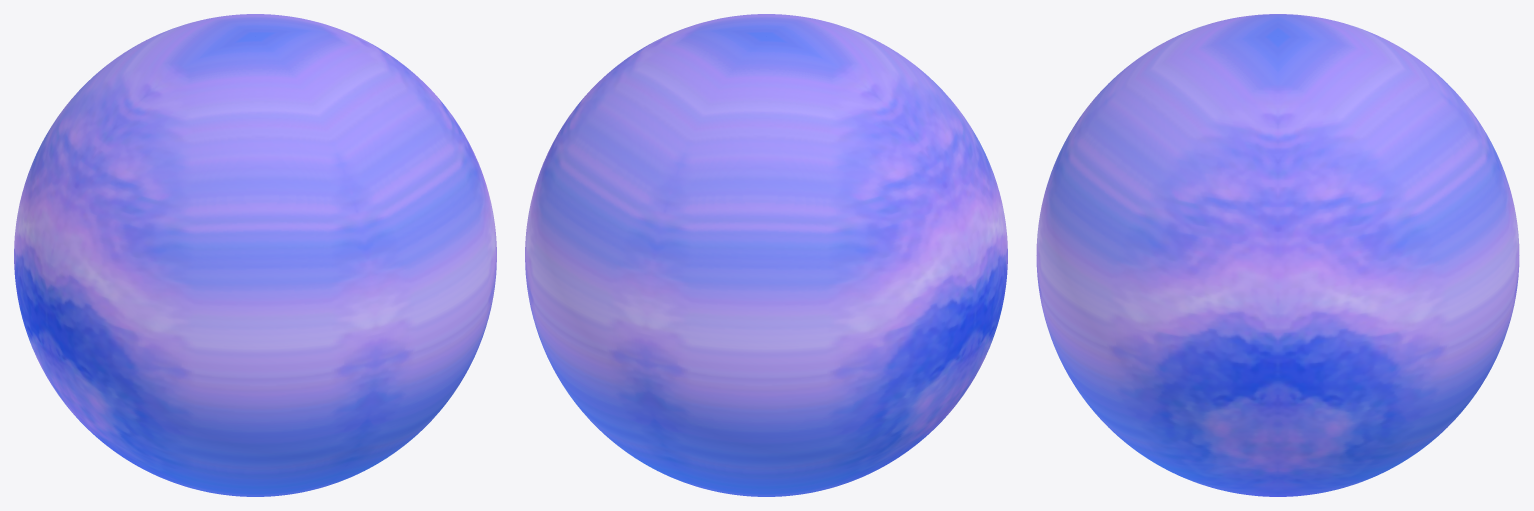
3 views of the same model, side by side, from view 1: azimuth 30°, elevation 25°; view 2: azimuth 150°, elevation 25°; view 3: azimuth 270°, elevation 25° (orthographic).
Parts seen in each view (by area): view 1: K2-18_b; view 2: K2-18_b; view 3: K2-18_b.
Boxes of the visible parts, x1,y1,x2,y2 form: K2-18_b: (14,14,496,496); K2-18_b: (525,14,1007,496); K2-18_b: (1036,14,1519,496).
Size of the model in its own units: 2 by 2 by 2.
Materials: 1 (1 with a texture image).
